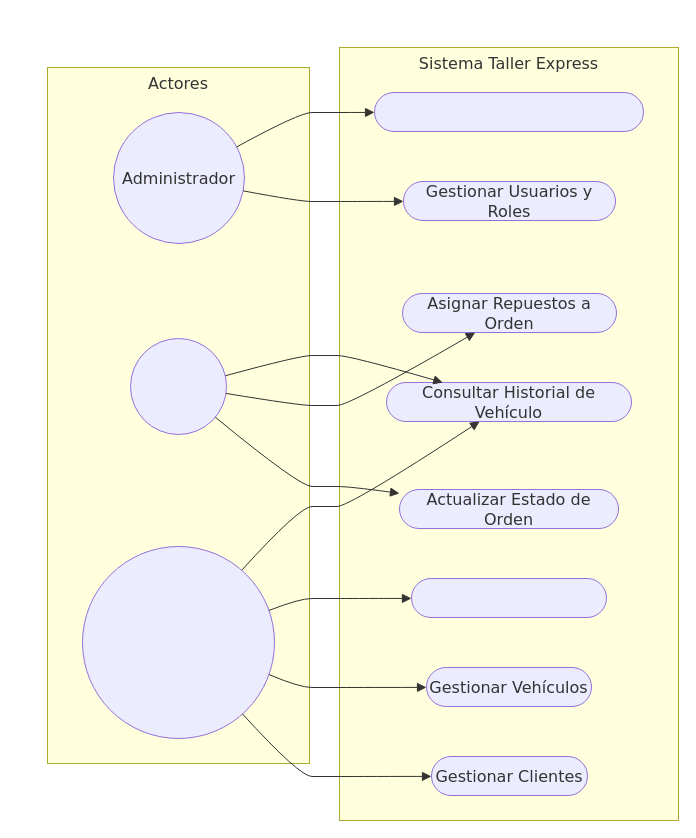
Image size: 696x838. Some labels were removed from this diagram. Here are the shapes that lost their labels. From the top down, the centre of each, then its label:
At [509,112]: "Gestionar Inventario de Repuestos".
At [178,386]: "Mecánico".
At [508,598]: "Crear Orden de Servicio".
At [178,642]: "Recepcionista / Asesor".
